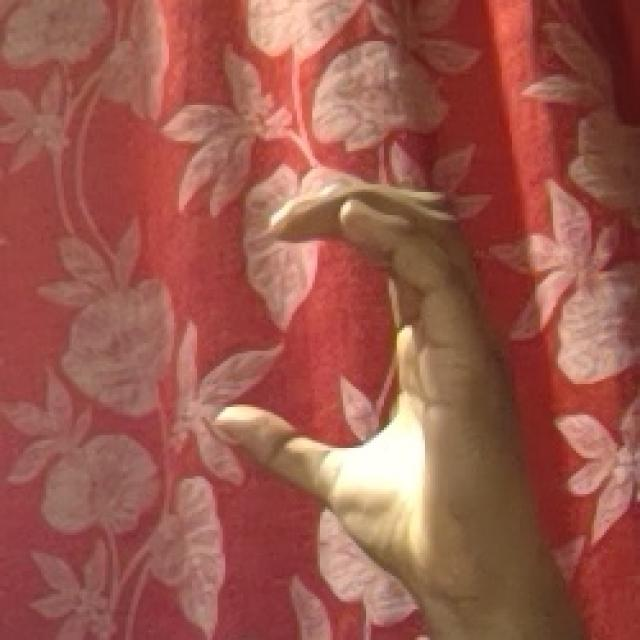Alphabet-C: (212, 169, 584, 640)
